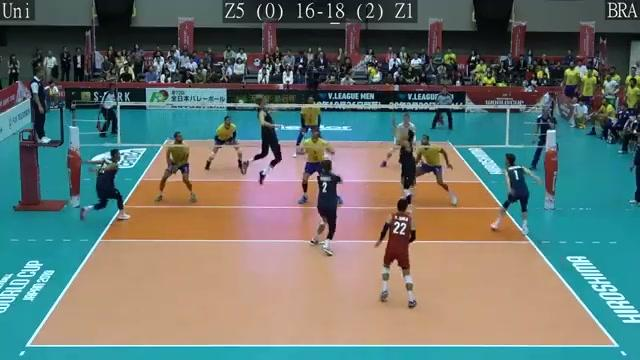ball: (366, 63, 378, 78)
